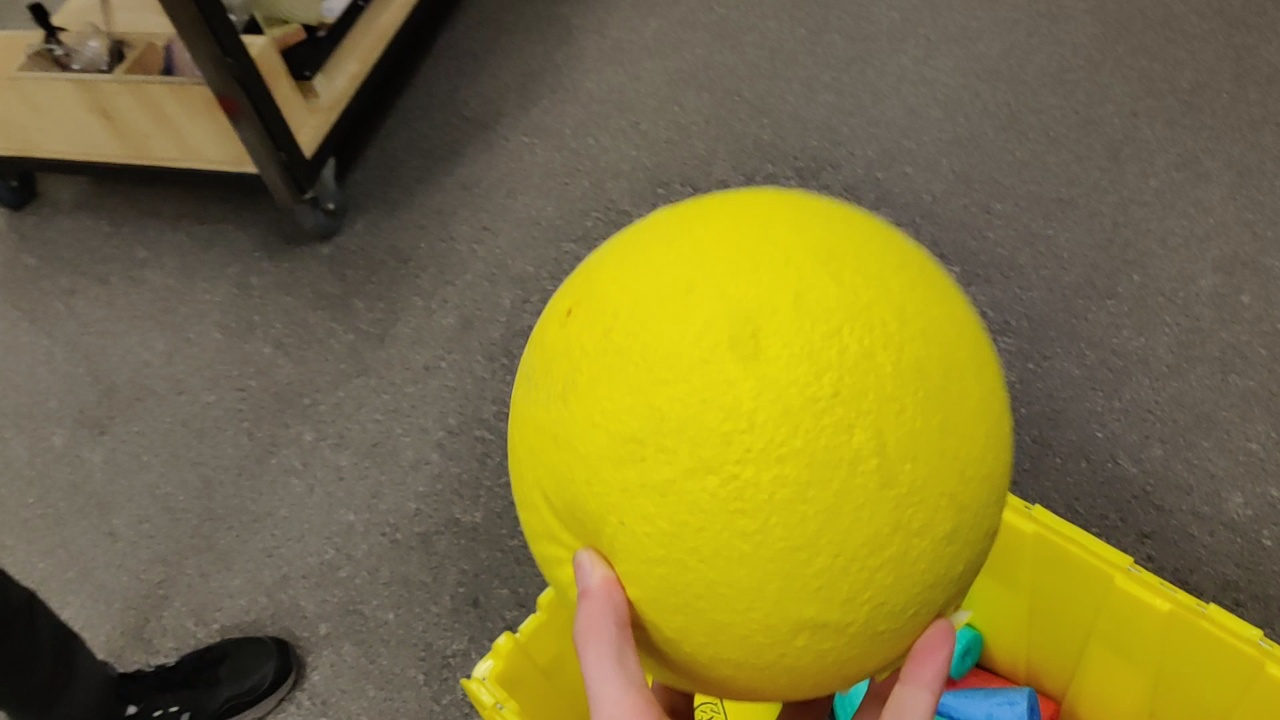Ball: (506, 183, 1024, 700)
